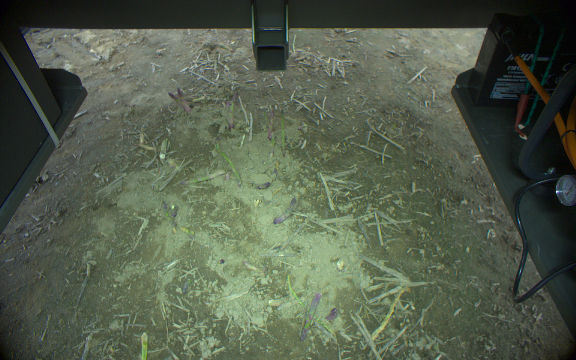aspa: (368, 285, 410, 342), (213, 140, 242, 187), (299, 292, 320, 343), (273, 196, 296, 225), (260, 109, 277, 145), (229, 87, 239, 129), (138, 330, 151, 360), (177, 86, 191, 112), (167, 91, 184, 111), (279, 108, 286, 155), (323, 307, 338, 324), (268, 108, 275, 140)
